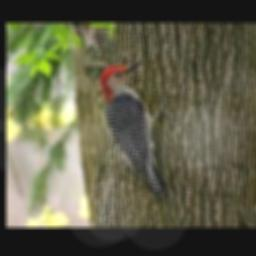Woodpecker: (100, 59, 173, 196)
